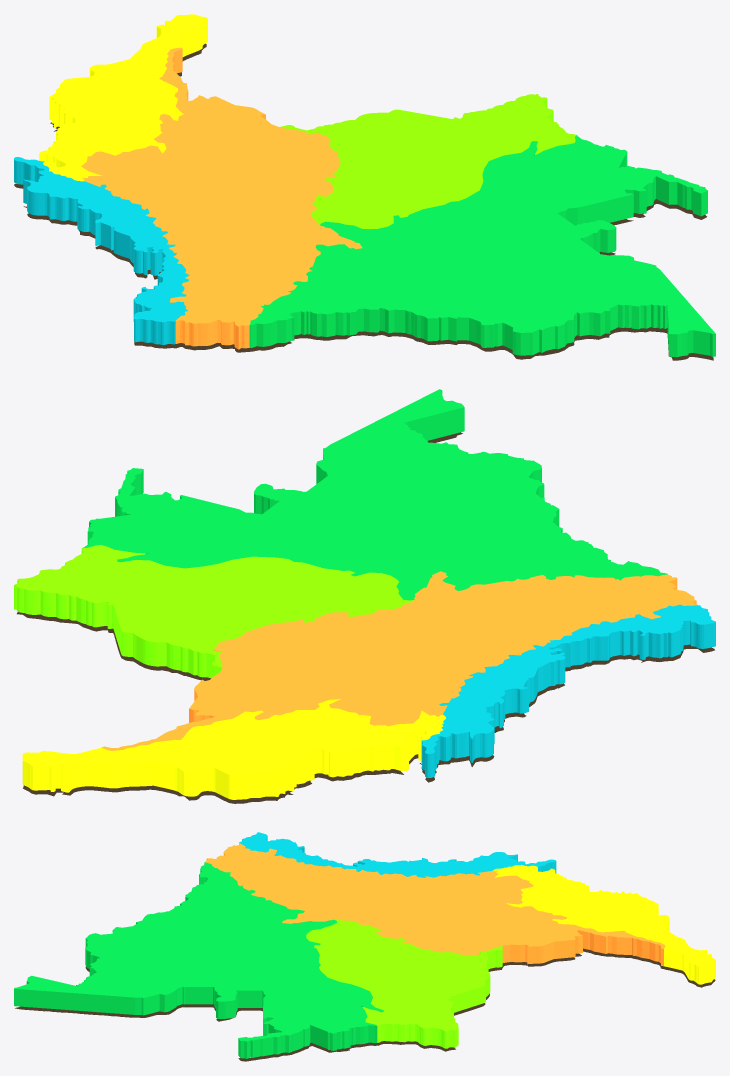
The model's file is regiones_colombia.glb.
The picture shows the model from 3 angles, top to bottom: view 1: azimuth 30°, elevation 25°; view 2: azimuth 150°, elevation 25°; view 3: azimuth 270°, elevation 25°; orthographic projection. The views are drawn at different scales.
Parts seen in each view (by area): view 1: Amazonia, Andes, Orinoquia, Caribe, Pacifico, BaseCol; view 2: Amazonia, Andes, Orinoquia, Caribe, Pacifico, BaseCol; view 3: Amazonia, Andes, Orinoquia, Caribe, Pacifico, BaseCol.
Part boxes in pixels (x1,y1,x2,y2): Amazonia: (249,135,715,357); Andes: (81,47,362,349); Orinoquia: (280,94,576,229); Caribe: (39,14,207,181); Pacifico: (14,157,189,345); BaseCol: (14,43,713,360); Amazonia: (82,389,667,600); Andes: (101,571,697,750); Orinoquia: (14,545,413,678); Caribe: (22,699,445,799); Pacifico: (421,604,715,777); BaseCol: (17,432,714,803); Amazonia: (14,862,383,1058); Andes: (205,843,665,966); Orinoquia: (306,919,502,1048); Caribe: (493,865,715,984); Pacifico: (239,832,556,877); BaseCol: (15,948,715,1061).
Size of what is drawn, in the model's own units: 4.33 by 0.1959 by 6.13.
